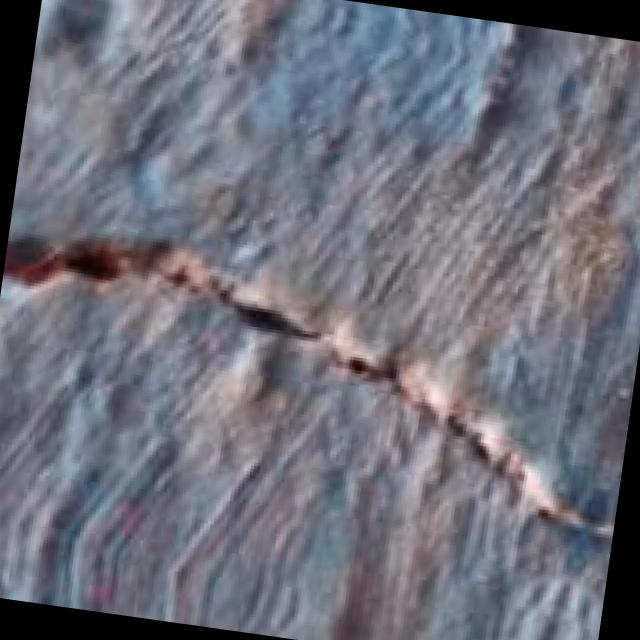crack: (0, 167, 640, 620)
